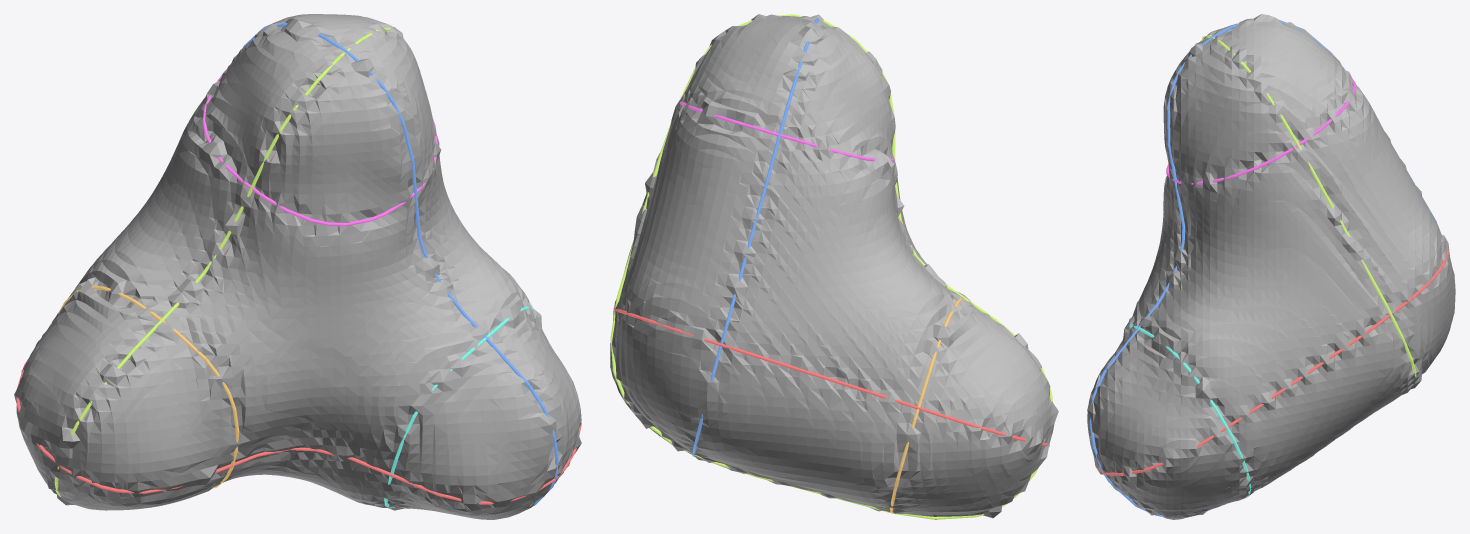
File: flowrep_trebol.gltf
3 views of the same model, side by side, from view 1: azimuth 30°, elevation 25°; view 2: azimuth 150°, elevation 25°; view 3: azimuth 270°, elevation 25° (orthographic). The views are drawn at different scales.
Size of the model in its own units: 0.6437 by 0.6279 by 0.4772.
